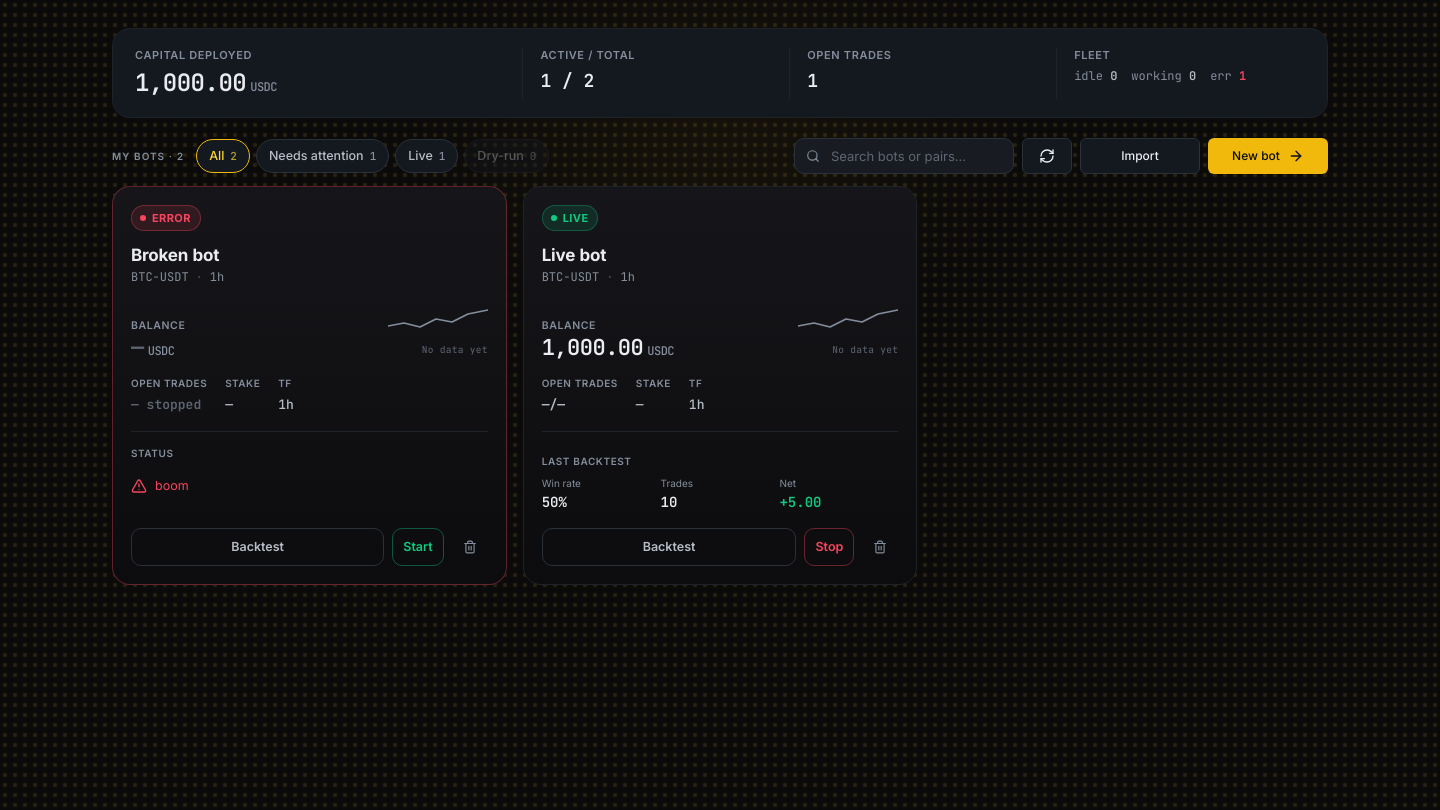
Scenario: DashboardPage › filters the grid when a status chip is clicked
Check: the heading "Live bot" is shown, box [542,245,606,265]
Check: the heading "Broken bot" is shown, box [131,245,219,265]
Click the button "Needs attention 1" at [323, 156], box [256,139,389,173]
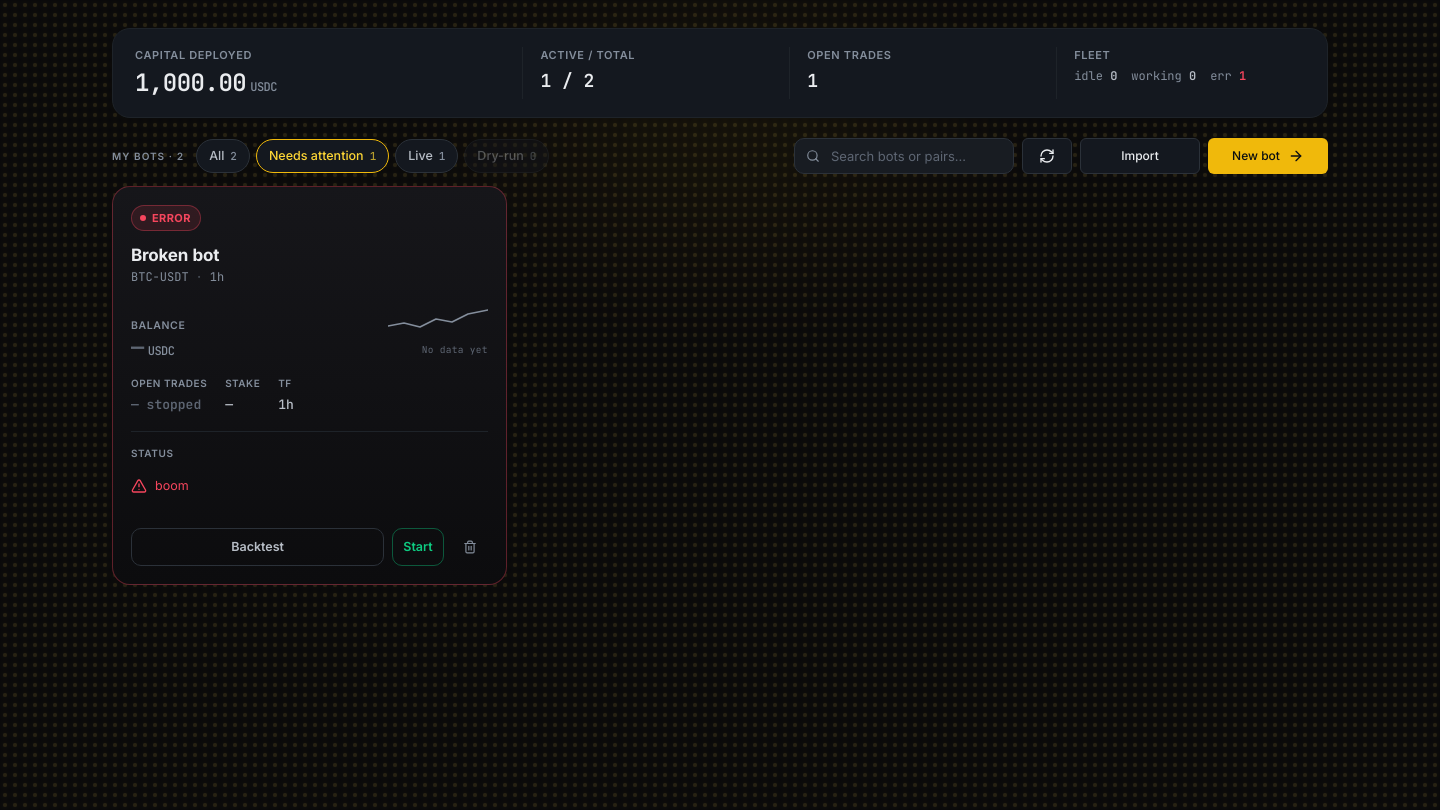
Check: the heading "Broken bot" is shown, box [131,245,219,265]
Check: the link "Live bot" is gone
